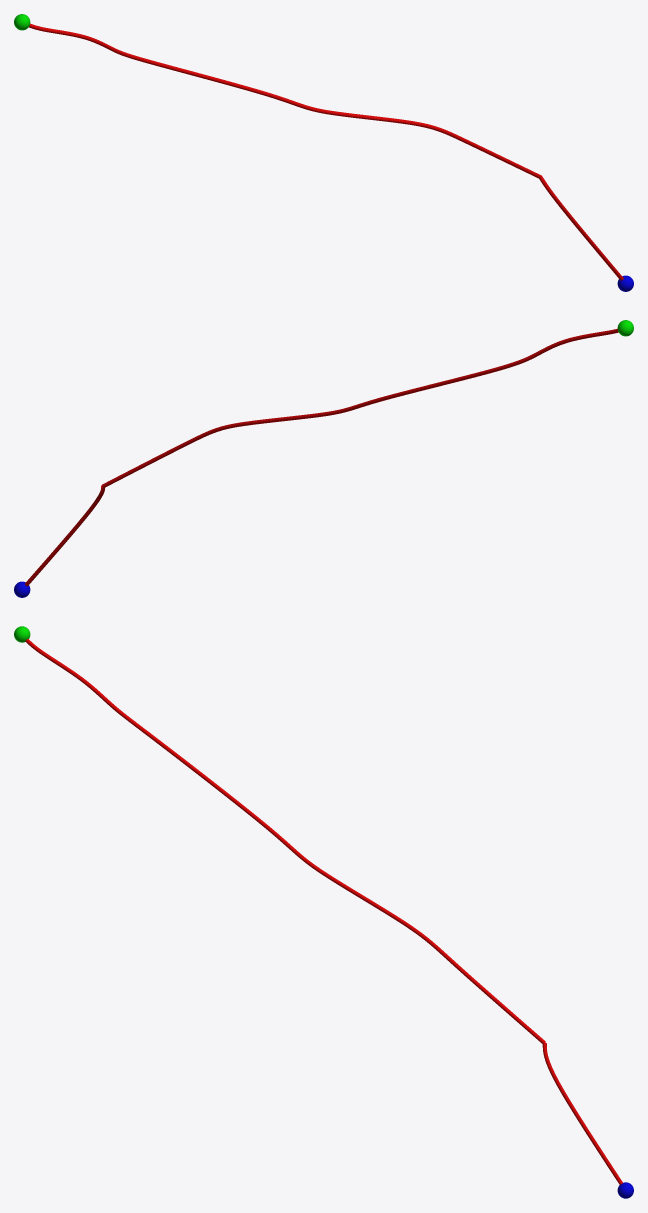
The model's file is paths.obj.
3 renders of one model, top to bottom at view 1: azimuth 30°, elevation 25°; view 2: azimuth 150°, elevation 25°; view 3: azimuth 330°, elevation 25°, orthographic.
Size of the model in its own units: 1.74 by 1.14 by 0.0431.
